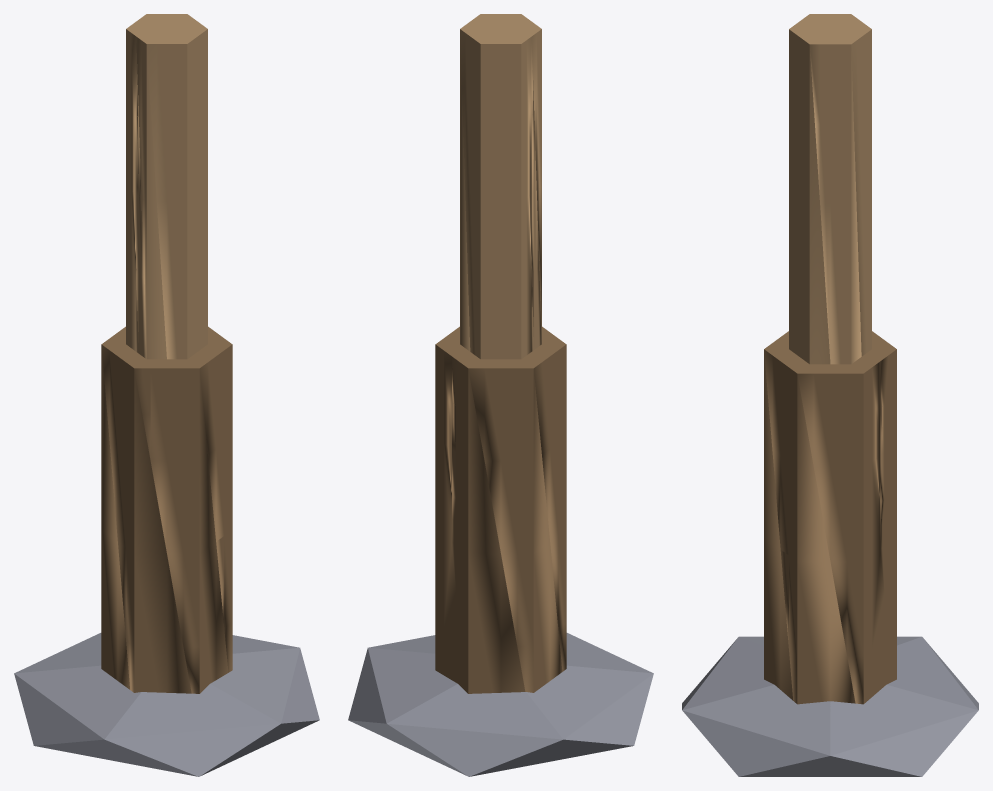
The model's file is roost.glb.
3 renders of one model, left to right at view 1: azimuth 30°, elevation 25°; view 2: azimuth 150°, elevation 25°; view 3: azimuth 270°, elevation 25°, orthographic.
Visible parts, largest first — view 1: RoostPost; view 2: RoostPost; view 3: RoostPost.
Boxes of the visible parts, x1,y1,x2,y2 form: RoostPost: [14, 14, 319, 776]; RoostPost: [348, 14, 653, 776]; RoostPost: [682, 14, 978, 776].
Size of the model in its own units: 0.7513 by 1.9 by 0.7145.
